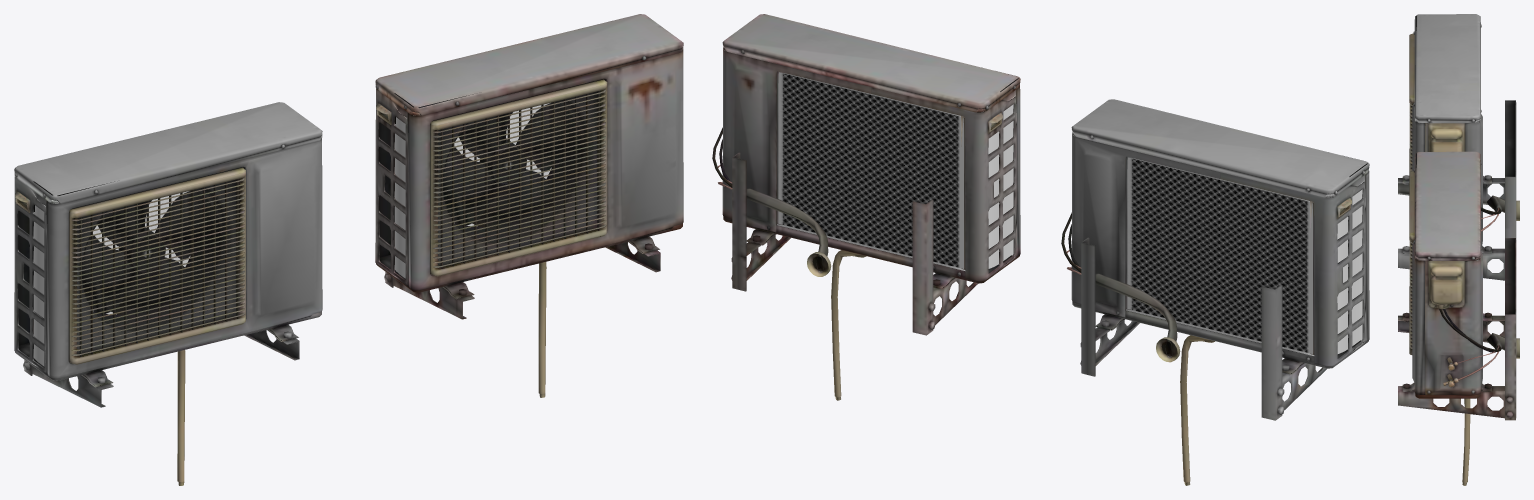
The model's file is aircon.glb.
3 renders of one model, left to right at view 1: azimuth 30°, elevation 25°; view 2: azimuth 150°, elevation 25°; view 3: azimuth 270°, elevation 25°, orthographic. The views are drawn at different scales.
Parts seen in each view (by area): view 1: exterior_aircon_unit, exterior_aircon_unit_rusted; view 2: exterior_aircon_unit, exterior_aircon_unit_rusted; view 3: exterior_aircon_unit_rusted, exterior_aircon_unit.
Part boxes in pixels (bbox=[...]): exterior_aircon_unit: bbox=[14, 102, 322, 485]; exterior_aircon_unit_rusted: bbox=[375, 14, 683, 397]; exterior_aircon_unit: bbox=[1061, 99, 1369, 485]; exterior_aircon_unit_rusted: bbox=[712, 14, 1020, 400]; exterior_aircon_unit_rusted: bbox=[1398, 151, 1519, 485]; exterior_aircon_unit: bbox=[1398, 14, 1519, 280].
Size of the model in its own units: 1.8 by 0.9279 by 0.3742.
Materials: 4 (4 with a texture image).
